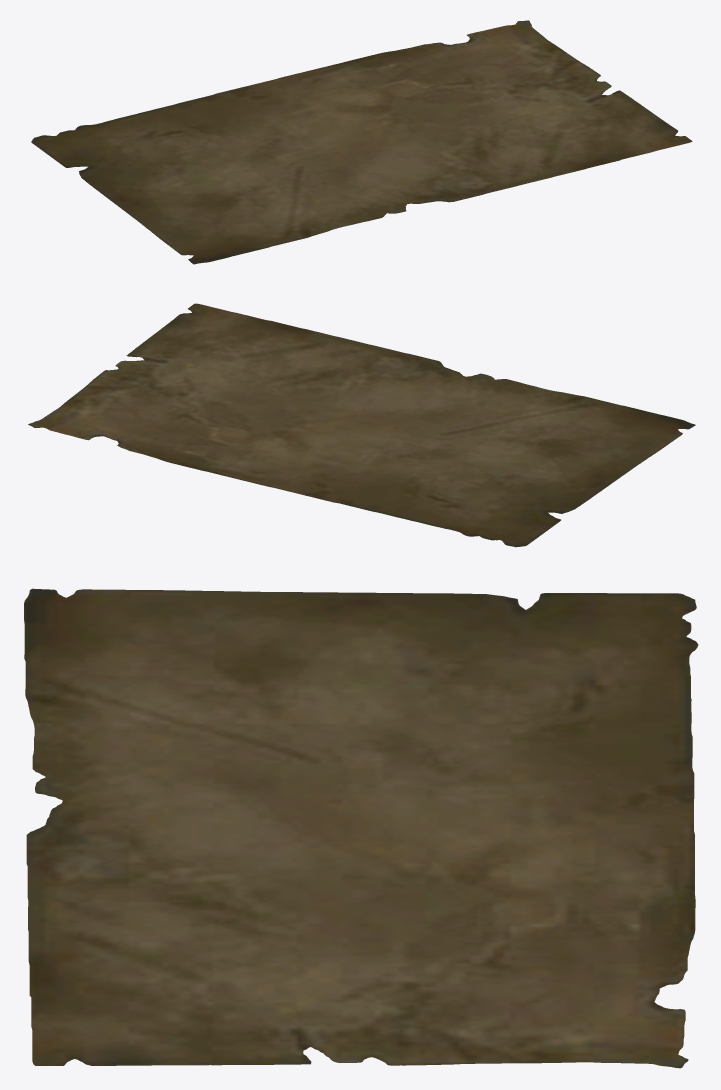
The model's file is S_Build_Village130.FBX.
3 views of the same model, one above another, from view 1: azimuth 30°, elevation 25°; view 2: azimuth 150°, elevation 25°; view 3: azimuth 270°, elevation 25° (orthographic). The views are drawn at different scales.
Visible parts, largest first — view 1: S_Build_Village130; view 2: S_Build_Village130; view 3: S_Build_Village130.
Boxes of the visible parts, <box> form: S_Build_Village130: <box>31,20,692,264</box>; S_Build_Village130: <box>28,303,695,547</box>; S_Build_Village130: <box>24,588,698,1068</box>.
Bounding box in the file's own units: 649 × 385 × 0.7772.
